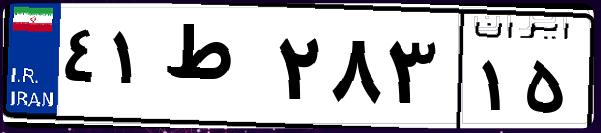1: (475, 38, 525, 113), (110, 28, 158, 98)
2: (270, 28, 330, 110)
3: (385, 28, 445, 110)
4: (57, 26, 110, 100)
5: (525, 38, 570, 115)
8: (330, 28, 385, 110)
ط: (158, 20, 270, 120)
